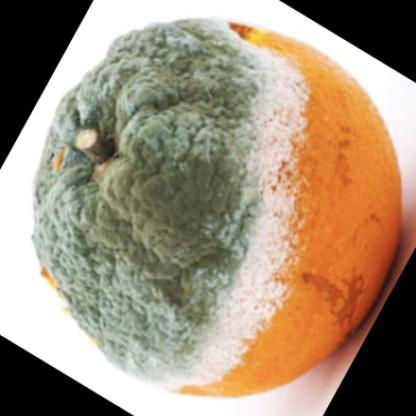rotten: (36, 19, 403, 397)
